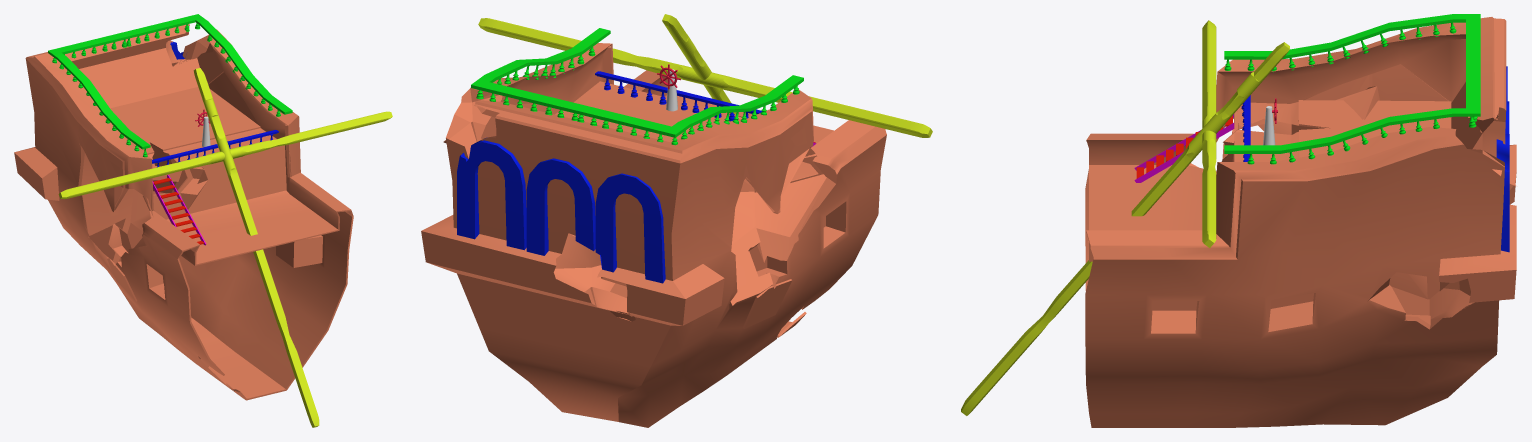
File: ship-back-SP.fbx
3 renders of one model, left to right at view 1: azimuth 30°, elevation 25°; view 2: azimuth 150°, elevation 25°; view 3: azimuth 270°, elevation 25°, orthographic. The views are drawn at different scales.
Visible parts, largest first — view 1: Ship Body.outer, Cylinder.159_dmg, Cylinder.076, Cylinder.091, Cube.020, Cube.021; view 2: Ship Body.outer, Cube.024, Cylinder.076, Cylinder.159_dmg, Cylinder.091, Steering.001; view 3: Ship Body.outer, Cylinder.159_dmg, Cylinder.076, Cube.024, Cube.021, Cube.020.
Part boxes in pixels (box(x1,y1,x2,y2)): Ship Body.outer: box(14, 24, 353, 400); Cylinder.159_dmg: box(58, 68, 392, 427); Cylinder.076: box(48, 14, 292, 157); Cylinder.091: box(152, 130, 278, 167); Cube.020: box(153, 178, 204, 244); Cube.021: box(152, 175, 206, 245); Ship Body.outer: box(421, 43, 886, 427); Cube.024: box(457, 137, 665, 283); Cylinder.076: box(471, 28, 803, 145); Cylinder.159_dmg: box(478, 14, 932, 137); Cylinder.091: box(595, 71, 762, 121); Steering.001: box(657, 64, 680, 111); Ship Body.outer: box(1085, 17, 1516, 427); Cylinder.159_dmg: box(961, 20, 1289, 415); Cylinder.076: box(1224, 14, 1480, 164); Cube.024: box(1496, 66, 1509, 252); Cube.021: box(1134, 114, 1234, 182); Cube.020: box(1136, 115, 1232, 178).
Size of the model in its own units: 3466 by 2751 by 3723.
